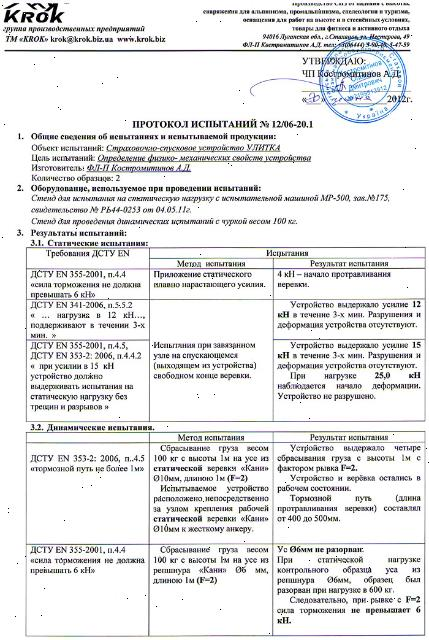stamp: (320, 40, 406, 124)
